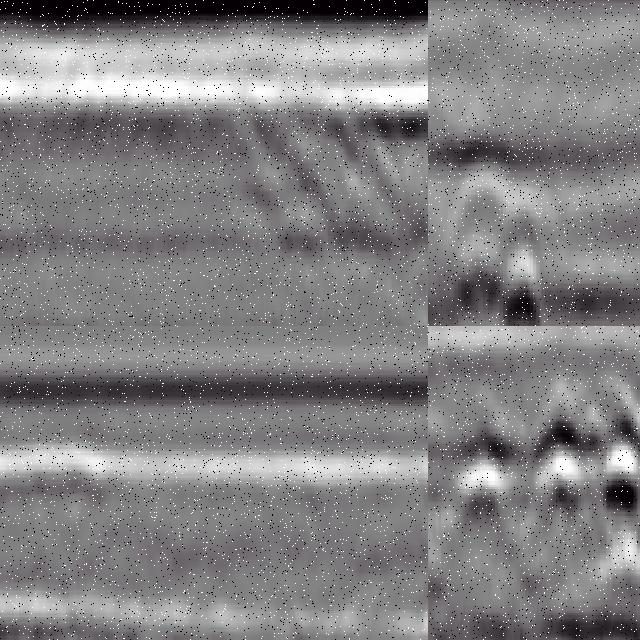loose: (225, 80, 429, 266), (442, 102, 570, 327), (460, 399, 640, 531)
